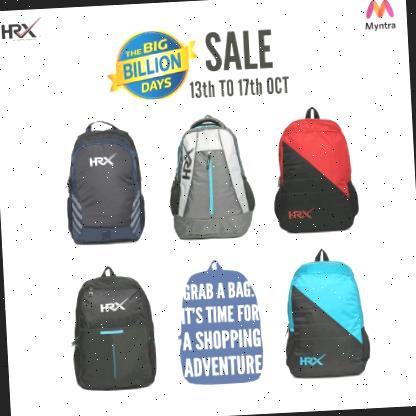bag: (161, 107, 264, 254), (60, 263, 164, 398), (275, 252, 376, 388), (264, 107, 367, 238), (57, 112, 150, 250)
